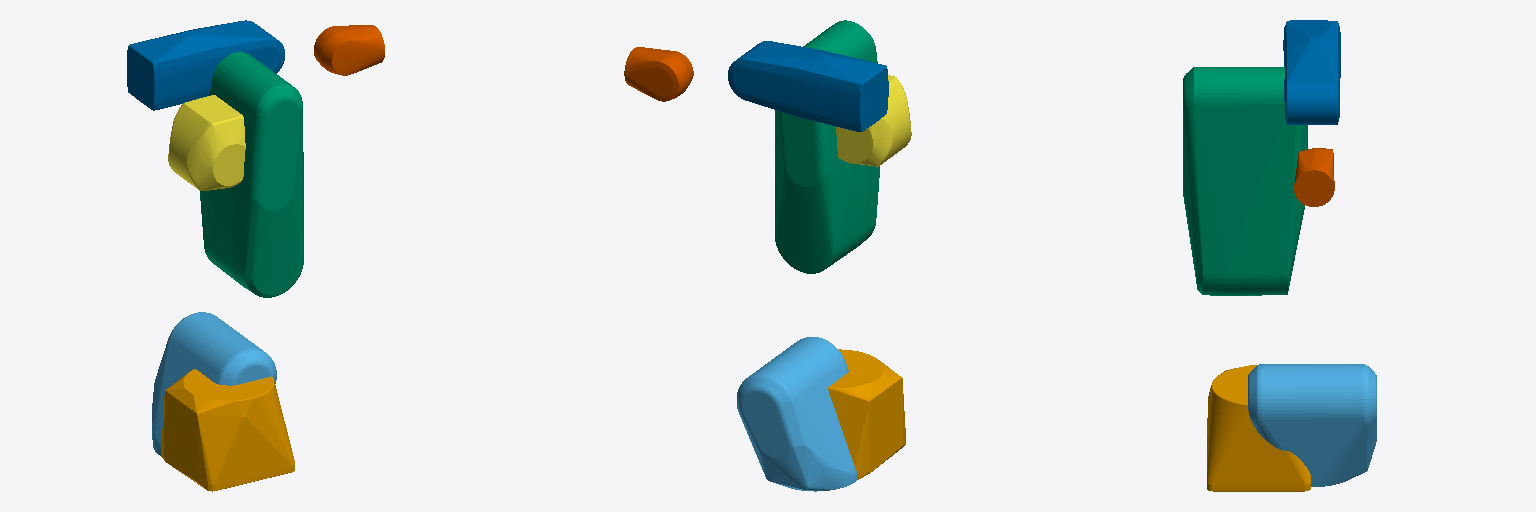
robot.urdf — FANUC-LRMate200iD:
<?xml version="1.0"?>
<robot name="FANUC-LRMate200iD">
  <link name="base_link">
    <visual>
      <origin xyz="0.009361 -0.095000 -0.043448" rpy="0 0 0"/>
      <geometry>
        <mesh filename="stl_files/base_link.stl" scale="0.001 0.001 0.001"/>
      </geometry>
    </visual>
  </link>
  <link name="link_1">
    <visual>
      <origin xyz="0.000220 0.002364 -0.213521" rpy="0 0 0"/>
      <geometry>
        <mesh filename="stl_files/link_1.stl" scale="0.001 0.001 0.001"/>
      </geometry>
    </visual>
  </link>
  <link name="link_2">
    <visual>
      <origin xyz="-0.000018 -0.119504 0.065980" rpy="0 0 0"/>
      <geometry>
        <mesh filename="stl_files/link_2.stl" scale="0.001 0.001 0.001"/>
      </geometry>
    </visual>
  </link>
  <link name="link_3">
    <visual>
      <origin xyz="-0.088500 -0.120093 -0.036650" rpy="0 0 0"/>
      <geometry>
        <mesh filename="stl_files/link_3.stl" scale="0.001 0.001 0.001"/>
      </geometry>
    </visual>
  </link>
  <link name="link_4">
    <visual>
      <origin xyz="-0.263526 0.002000 0.050000" rpy="0 0 0"/>
      <geometry>
        <mesh filename="stl_files/link_4.stl" scale="0.001 0.001 0.001"/>
      </geometry>
    </visual>
  </link>
  <link name="link_5">
    <visual>
      <origin xyz="-0.074000 0.005703 -0.000181" rpy="0 0 0"/>
      <geometry>
        <mesh filename="stl_files/link_5.stl" scale="0.001 0.001 0.001"/>
      </geometry>
    </visual>
  </link>
  <link name="link_6">
    <visual>
      <origin xyz="-0.113998 0.000272 0.000019" rpy="0 0 0"/>
      <geometry>
        <mesh filename="stl_files/link_6.stl" scale="0.001 0.001 0.001"/>
      </geometry>
    </visual>
  </link>
  <joint name="joint_1" type="revolute">
    <parent link="base_link"/>
    <child link="link_1"/>
    <origin xyz="0.000000 0.000000 0.330000" rpy="0 0 0"/>
    <axis xyz="0.000000 0.000000 1.000000"/>
    <limit lower="-2.9671" upper="2.9671" effort="100" velocity="1"/>
  </joint>
  <joint name="joint_2" type="revolute">
    <parent link="link_1"/>
    <child link="link_2"/>
    <origin xyz="0.050000 0.000000 0.000000" rpy="0 0 0"/>
    <axis xyz="0.000000 1.000000 0.000000"/>
    <limit lower="-1.7453" upper="2.5307" effort="100" velocity="1"/>
  </joint>
  <joint name="joint_3" type="revolute">
    <parent link="link_2"/>
    <child link="link_3"/>
    <origin xyz="0.000000 0.000000 0.330000" rpy="0 0 0"/>
    <axis xyz="0.000000 -1.000000 0.000000"/>
    <limit lower="-1.2217" upper="3.5779" effort="100" velocity="1"/>
  </joint>
  <joint name="joint_4" type="revolute">
    <parent link="link_3"/>
    <child link="link_4"/>
    <origin xyz="0.000000 0.000000 0.035000" rpy="0 0 0"/>
    <axis xyz="-1.000000 0.000000 0.000000"/>
    <limit lower="-3.3161" upper="3.3161" effort="100" velocity="1"/>
  </joint>
  <joint name="joint_5" type="revolute">
    <parent link="link_4"/>
    <child link="link_5"/>
    <origin xyz="0.335000 0.000000 0.000000" rpy="0 0 0"/>
    <axis xyz="0.000000 -1.000000 0.000000"/>
    <limit lower="-2.1817" upper="2.1817" effort="100" velocity="1"/>
  </joint>
  <joint name="joint_6" type="revolute">
    <parent link="link_5"/>
    <child link="link_6"/>
    <origin xyz="0.080000 0.000000 0.000000" rpy="0 0 0"/>
    <axis xyz="-1.000000 0.000000 0.000000"/>
    <limit lower="-6.2832" upper="6.2832" effort="100" velocity="1"/>
  </joint>
</robot>

--- What the picture shows (computed from the rendered views, not written in the file) ---
Views: 3 orthographic renders of the robot side by side, from view 1: azimuth 30°, elevation 25°; view 2: azimuth 150°, elevation 25°; view 3: azimuth 270°, elevation 25°.
Robot: FANUC-LRMate200iD — 7 links, 6 joints (6 revolute); root link base_link; default pose: every joint at zero.
Visible links, largest first — view 1: link_2, base_link, link_4, link_1, link_3, link_5; view 2: link_2, link_1, link_4, base_link, link_3, link_5; view 3: link_2, link_1, base_link, link_4, link_5.
Boxes of the visible links, left/top/right/bottom form: link_2: left=200, top=52, right=303, bottom=297; base_link: left=161, top=369, right=294, bottom=491; link_4: left=127, top=20, right=284, bottom=110; link_1: left=152, top=312, right=276, bottom=455; link_3: left=168, top=95, right=245, bottom=190; link_5: left=314, top=25, right=384, bottom=75; link_2: left=775, top=20, right=879, bottom=273; link_1: left=737, top=337, right=857, bottom=491; link_4: left=728, top=41, right=888, bottom=131; base_link: left=828, top=349, right=905, bottom=479; link_3: left=836, top=75, right=911, bottom=166; link_5: left=624, top=47, right=693, bottom=101; link_2: left=1183, top=67, right=1307, bottom=295; link_1: left=1248, top=364, right=1376, bottom=486; base_link: left=1207, top=365, right=1310, bottom=491; link_4: left=1283, top=20, right=1340, bottom=124; link_5: left=1294, top=148, right=1334, bottom=206.
Size in the robot's own frame: 0.5105 by 0.3529 by 0.8523 metres.
7 mesh visuals loaded from 7 distinct referenced files (7 binary STL).
